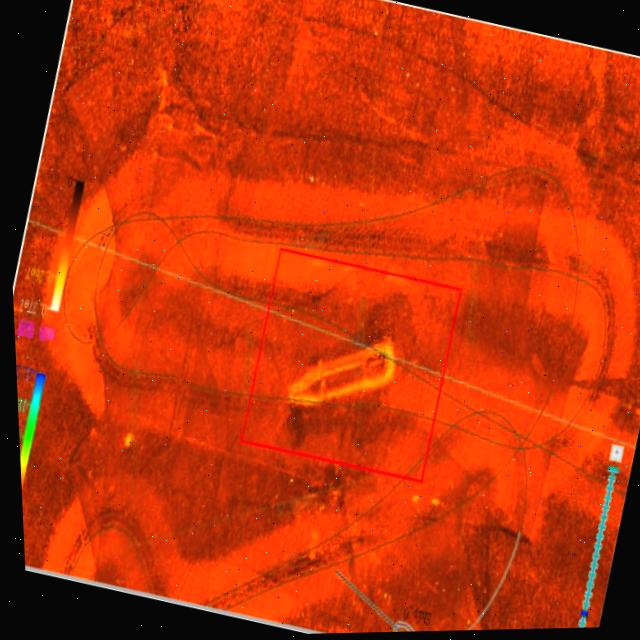shipwreck: (276, 315, 405, 433)
